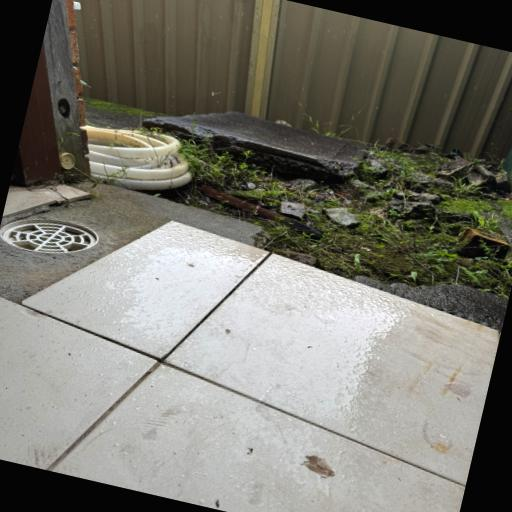gap: (332, 268, 508, 333), (96, 184, 269, 249), (274, 249, 326, 270)
